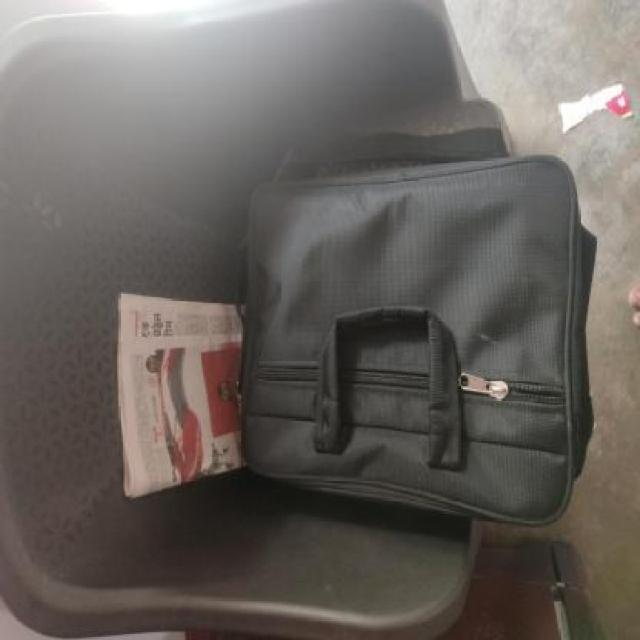backpack: (228, 148, 603, 534)
